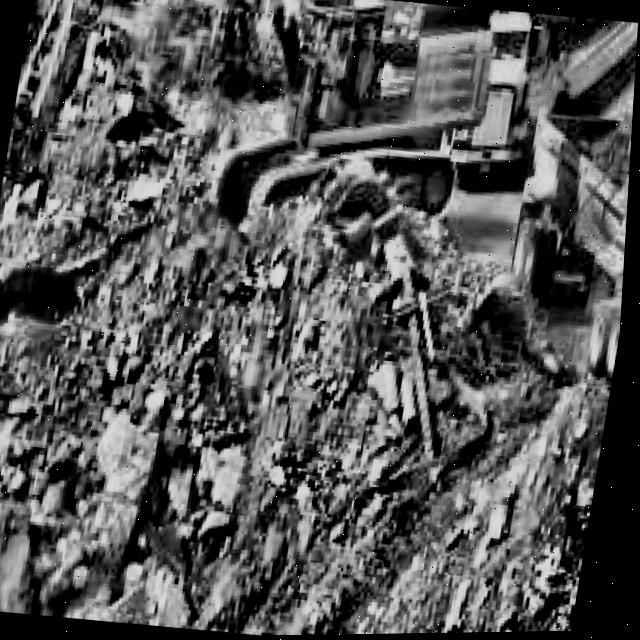dump_truck: (485, 113, 634, 418), (441, 8, 549, 204)
excavator: (0, 0, 503, 366)
